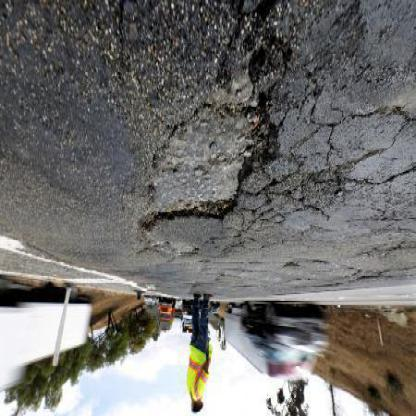pothole: (138, 98, 283, 237), (217, 2, 293, 90), (144, 240, 198, 262)
